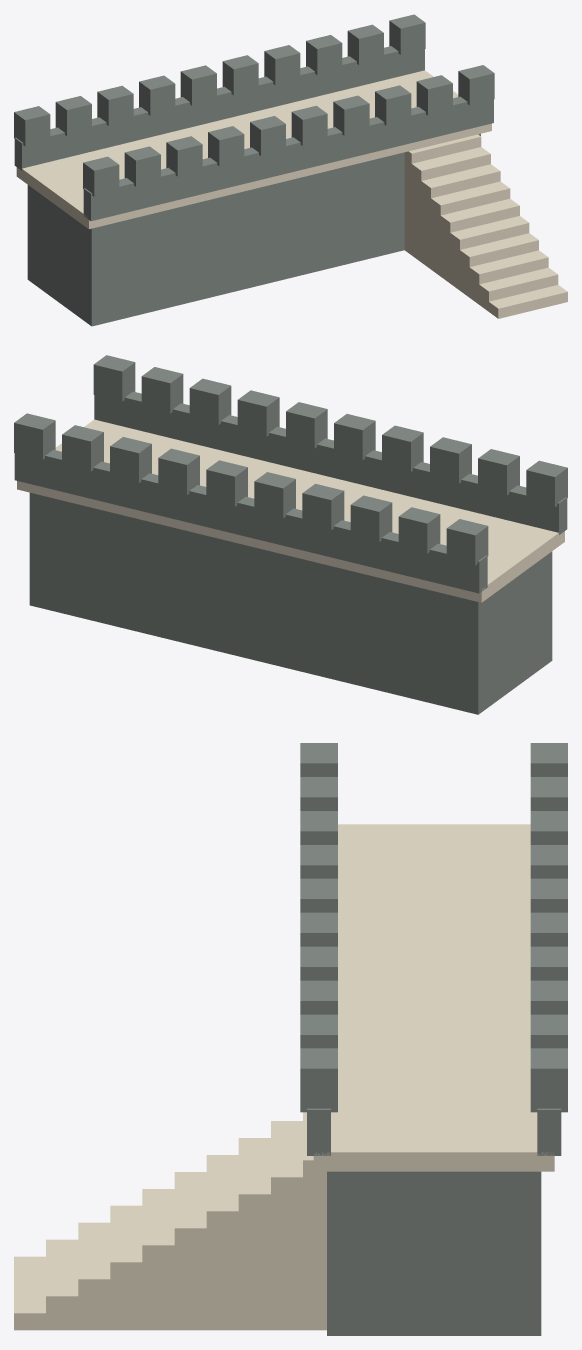
File: wall-lookout.glb
3 renders of one model, top to bottom at view 1: azimuth 30°, elevation 25°; view 2: azimuth 150°, elevation 25°; view 3: azimuth 270°, elevation 25°, orthographic. The views are drawn at different scales.
Size of the model in its own units: 2.9 by 1.12 by 2.07.
